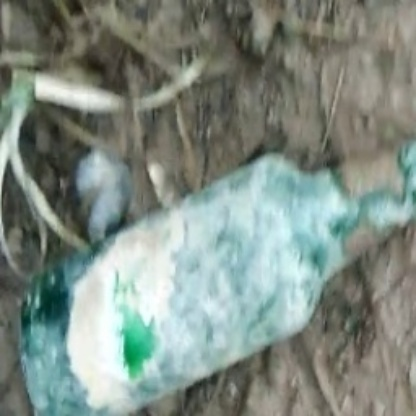bottle: (20, 111, 415, 411)
